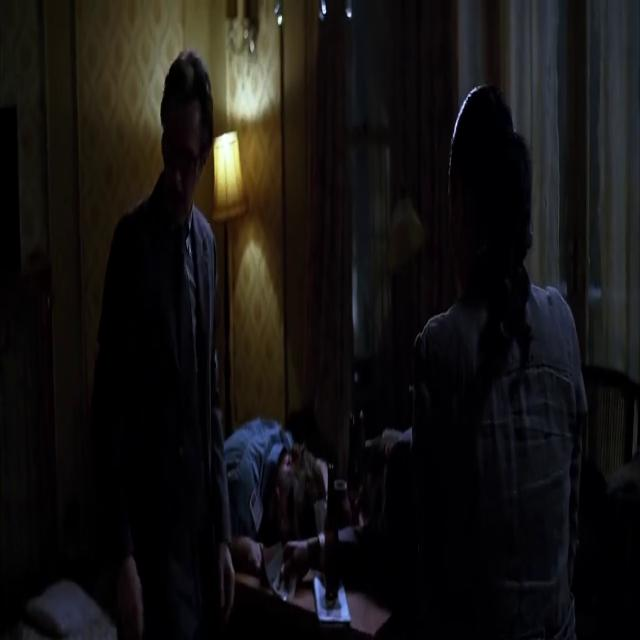People: (447, 71, 601, 640), (137, 36, 249, 640), (235, 299, 329, 640)
